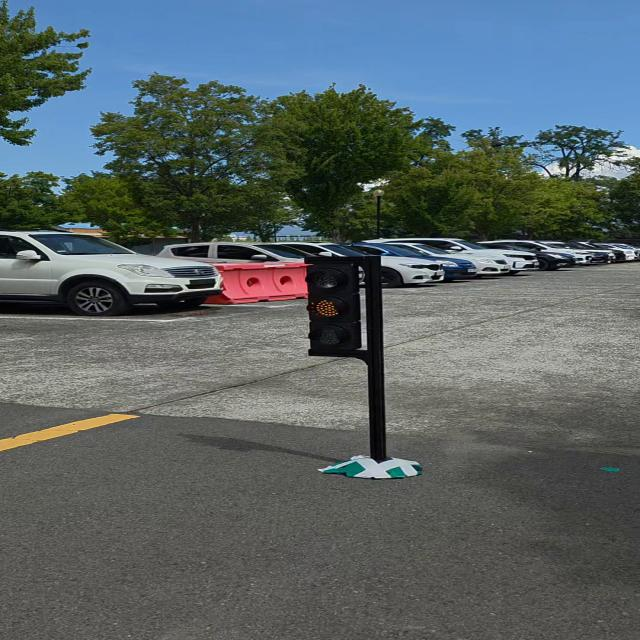yellow: (306, 256, 369, 356)
